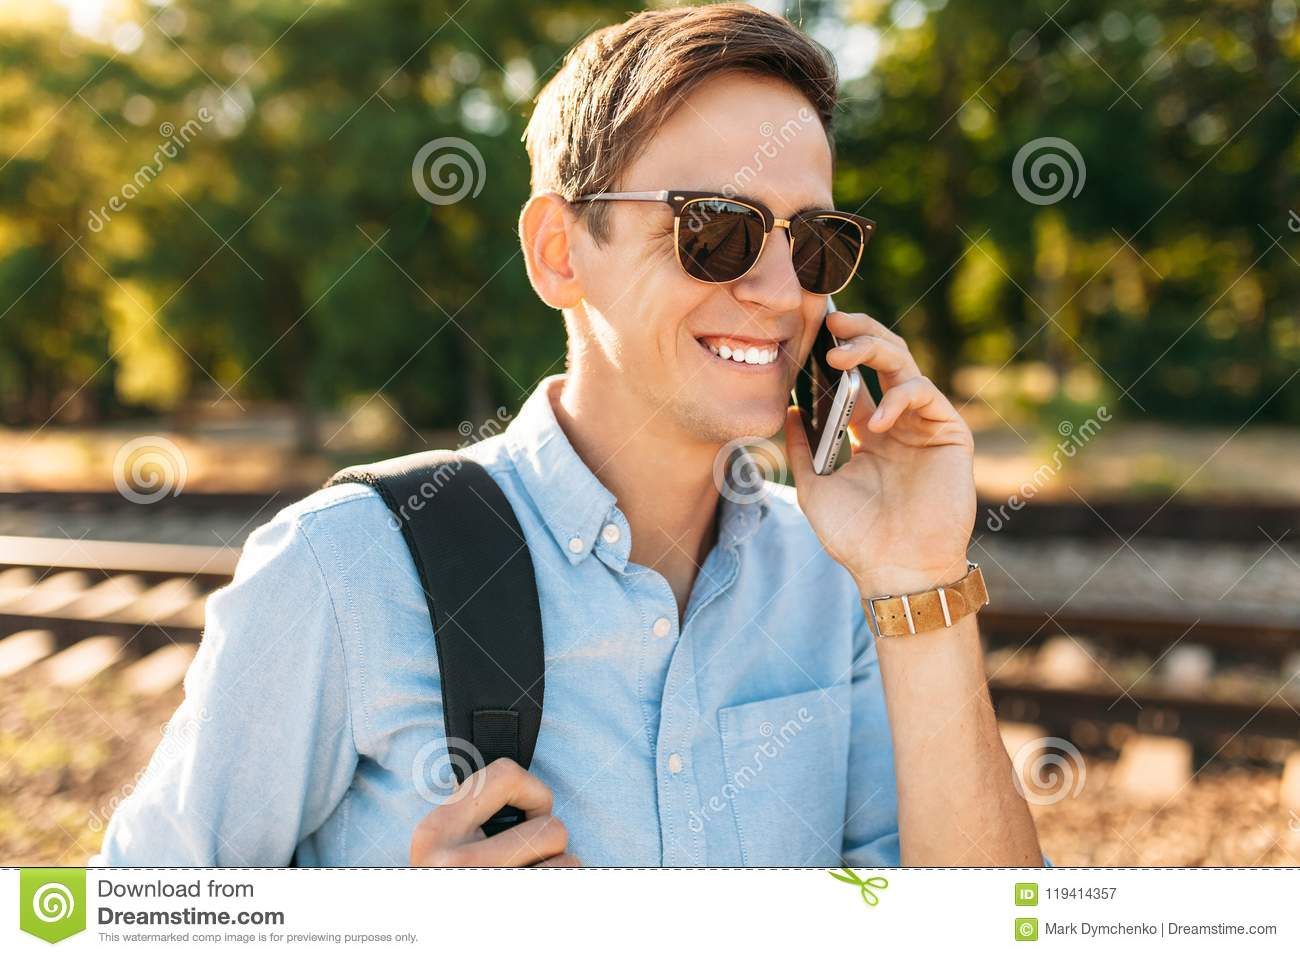phone: (792, 295, 864, 477)
talk: (637, 179, 979, 614)
